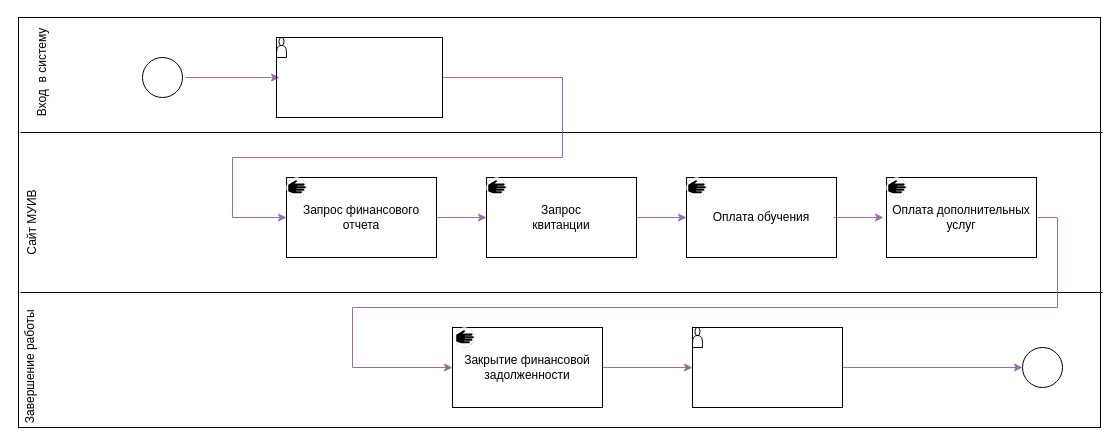
This 1120x447 diagram has some shape labels left out. Here are the shapes that lost their labels. From the top down, the centre of each, then its label:
At pixel 359 77: "Авторизация пользователя в системе Логин и пароль".
At pixel 767 367: "Выход из аккаунта".
